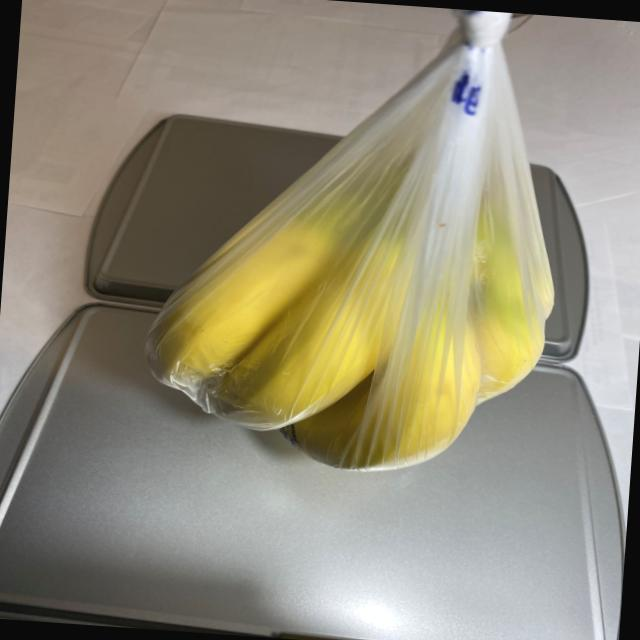banana: (129, 145, 564, 488)
